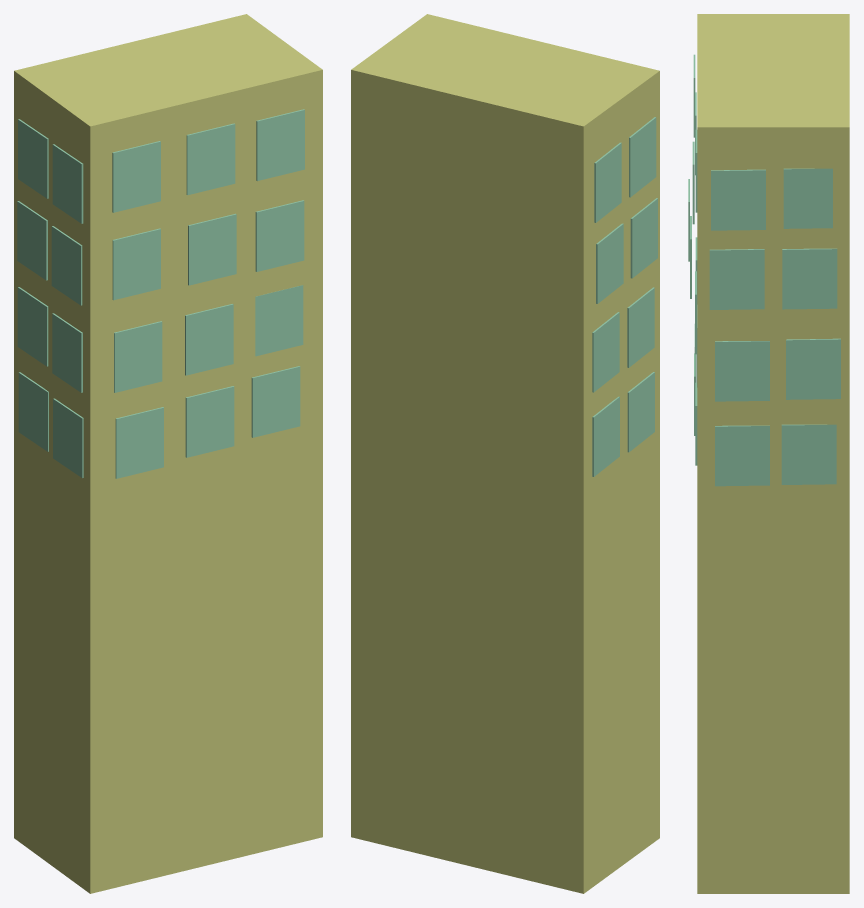
File: building1.fbx
3 renders of one model, left to right at view 1: azimuth 30°, elevation 25°; view 2: azimuth 150°, elevation 25°; view 3: azimuth 270°, elevation 25°, orthographic.
Visible parts, largest first — view 1: Cube, Cube.002, Cube.011, Cube.004, Cube.010, Cube.006, Cube.005, Cube.003, Cube.001, Cube.012, Cube.009, Cube.008 (+9 smaller); view 2: Cube, Cube.019, Cube.018, Cube.017, Cube.016, Cube.015, Cube.014, Cube.013, Cube.020; view 3: Cube, Cube.025, Cube.026, Cube.021, Cube.022, Cube.027, Cube.024, Cube.023, Cube.028.
Boxes of the visible parts, x1,y1,x2,y2 form: Cube: (14, 14, 322, 893); Cube.002: (186, 123, 235, 195); Cube.011: (185, 386, 234, 457); Cube.004: (255, 200, 304, 271); Cube.010: (251, 366, 300, 437); Cube.006: (112, 228, 160, 300); Cube.005: (188, 213, 236, 285); Cube.003: (256, 109, 304, 180); Cube.001: (112, 141, 160, 212); Cube.012: (115, 407, 163, 478); Cube.009: (114, 321, 162, 392); Cube.008: (185, 304, 233, 375); Cube: (351, 14, 659, 893); Cube.019: (627, 372, 654, 452); Cube.018: (627, 287, 654, 367); Cube.017: (592, 312, 619, 392); Cube.016: (596, 223, 623, 303); Cube.015: (630, 198, 657, 278); Cube.014: (629, 117, 656, 197); Cube.013: (594, 142, 621, 222); Cube.020: (592, 396, 619, 476); Cube: (697, 14, 849, 893); Cube.025: (782, 248, 837, 309); Cube.026: (709, 249, 764, 309); Cube.021: (781, 424, 836, 484); Cube.022: (715, 425, 769, 486); Cube.027: (711, 169, 765, 230); Cube.024: (786, 338, 840, 399); Cube.023: (715, 341, 769, 401); Cube.028: (783, 168, 832, 228).
Bounding box in the file's own units: 341 × 1032 × 197.
